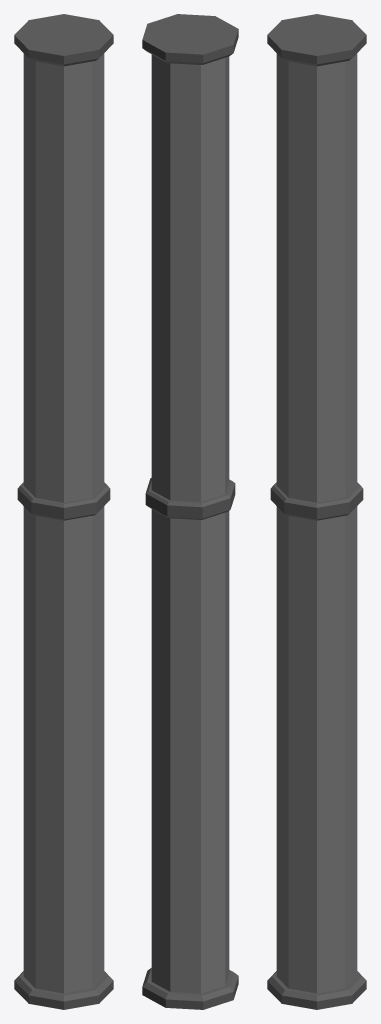
File: model_pipe_kit_straight_01.fbx
The picture shows the model from 3 angles, left to right: view 1: azimuth 90°, elevation 25°; view 2: azimuth 150°, elevation 25°; view 3: azimuth 270°, elevation 25°; orthographic projection.
Visible parts, largest first — view 1: model_pipe_kit_straight_01; view 2: model_pipe_kit_straight_01; view 3: model_pipe_kit_straight_01.
Part boxes in pixels (x1,y1,x2,y2): model_pipe_kit_straight_01: (14, 14, 113, 1009); model_pipe_kit_straight_01: (142, 14, 238, 1009); model_pipe_kit_straight_01: (267, 14, 366, 1009).
Size of the model in its own units: 28.36 by 300 by 28.36.
1 material, 1 textured.
